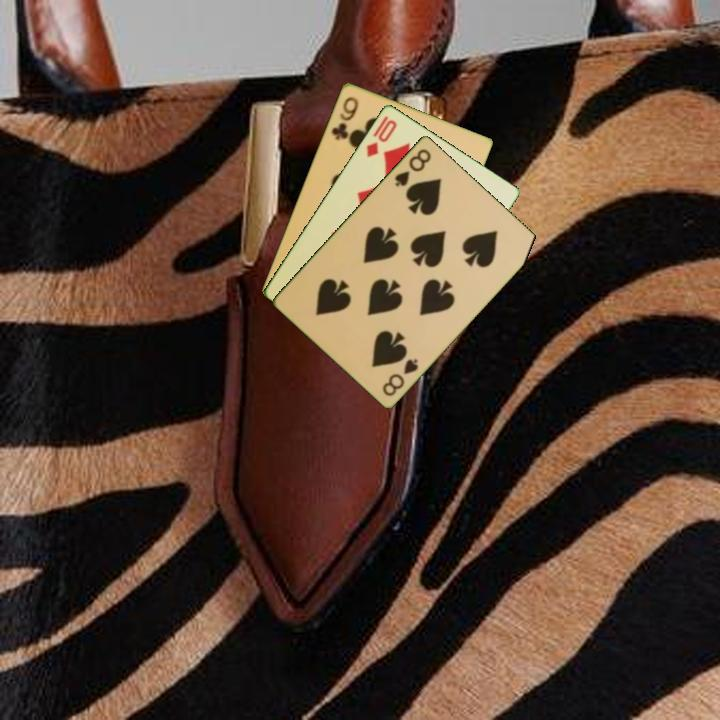10d: (362, 112, 400, 160)
8s: (391, 145, 434, 189), (379, 355, 421, 399)
9c: (328, 93, 361, 143)
